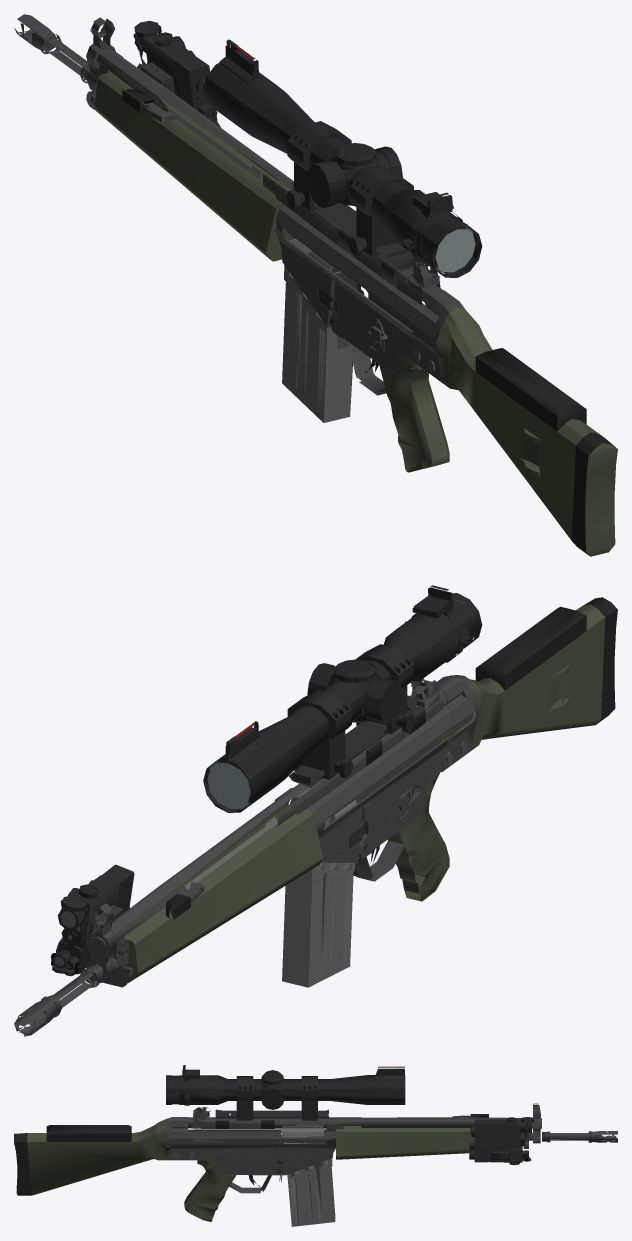
3 views of the same model, one above another, from view 1: azimuth 30°, elevation 25°; view 2: azimuth 150°, elevation 25°; view 3: azimuth 270°, elevation 25° (orthographic). The views are drawn at different scales.
Visible parts, largest first — view 1: merged; view 2: merged; view 3: merged.
Part boxes in pixels (box(x1,y1,x2,y2)): merged: box(14, 14, 617, 556); merged: box(14, 585, 617, 1036); merged: box(14, 1065, 617, 1226).
Bounding box in the file's own units: 0.0384 × 0.1111 × 0.3876.
8 materials, 8 textured.
